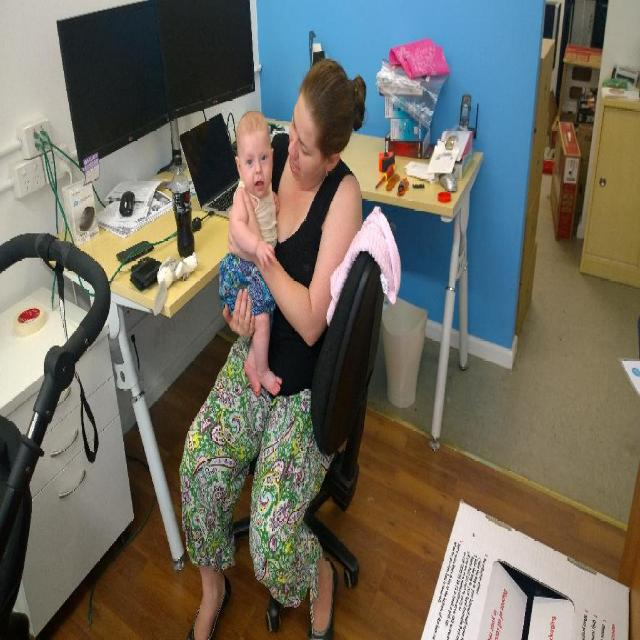chair: (273, 211, 393, 600)
desk: (44, 114, 484, 569)
laptop: (178, 111, 242, 217)
mouse: (119, 190, 135, 217)
person: (181, 54, 366, 636)
tv: (56, 2, 172, 180), (159, 2, 258, 121)
